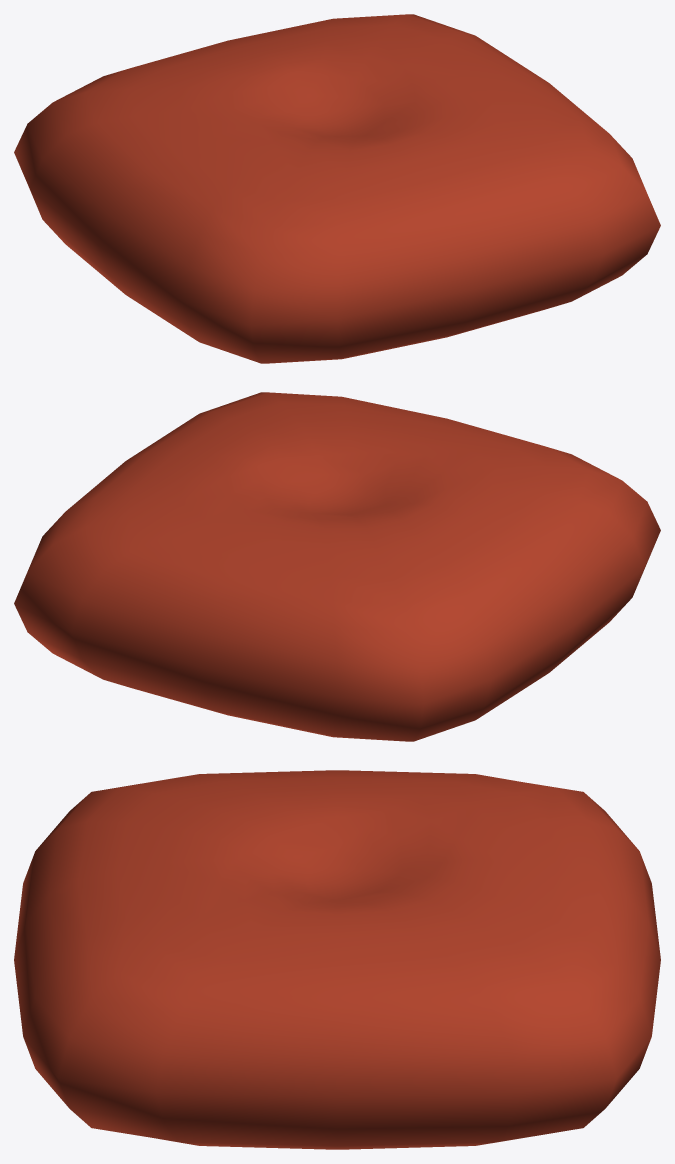
The model's file is Proxy_Pillow.fbx.
3 renders of one model, top to bottom at view 1: azimuth 30°, elevation 25°; view 2: azimuth 150°, elevation 25°; view 3: azimuth 270°, elevation 25°, orthographic. The views are drawn at different scales.
Visible parts, largest first — view 1: Proxy_Pillow; view 2: Proxy_Pillow; view 3: Proxy_Pillow.
Boxes of the visible parts, left/top/right/bottom form: Proxy_Pillow: left=14, top=14, right=660, bottom=363; Proxy_Pillow: left=14, top=392, right=660, bottom=741; Proxy_Pillow: left=14, top=770, right=660, bottom=1149.
Bounding box in the file's own units: 218 × 218 × 74.44.
